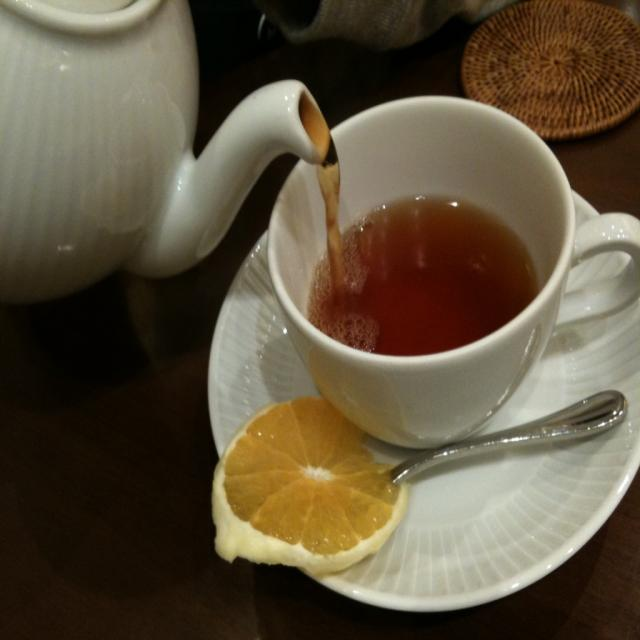Tea: (304, 191, 538, 355)
